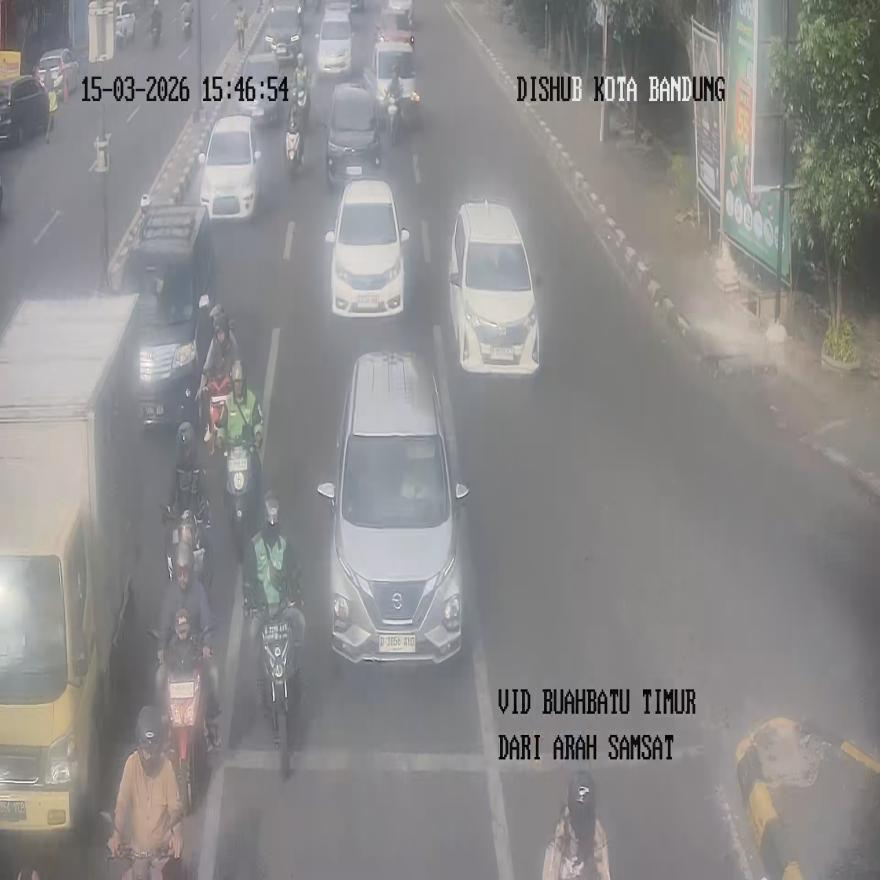Motor: (317, 350, 468, 664), (121, 197, 216, 426), (448, 199, 540, 375), (324, 179, 409, 318), (200, 114, 261, 220), (323, 81, 381, 185), (316, 1, 354, 75)
Truk: (154, 626, 209, 814), (258, 620, 300, 779), (100, 810, 181, 880), (224, 431, 260, 548), (162, 502, 210, 589), (199, 372, 232, 456), (286, 123, 303, 176), (386, 92, 402, 146), (148, 0, 162, 46), (235, 5, 246, 52), (182, 2, 192, 38)
